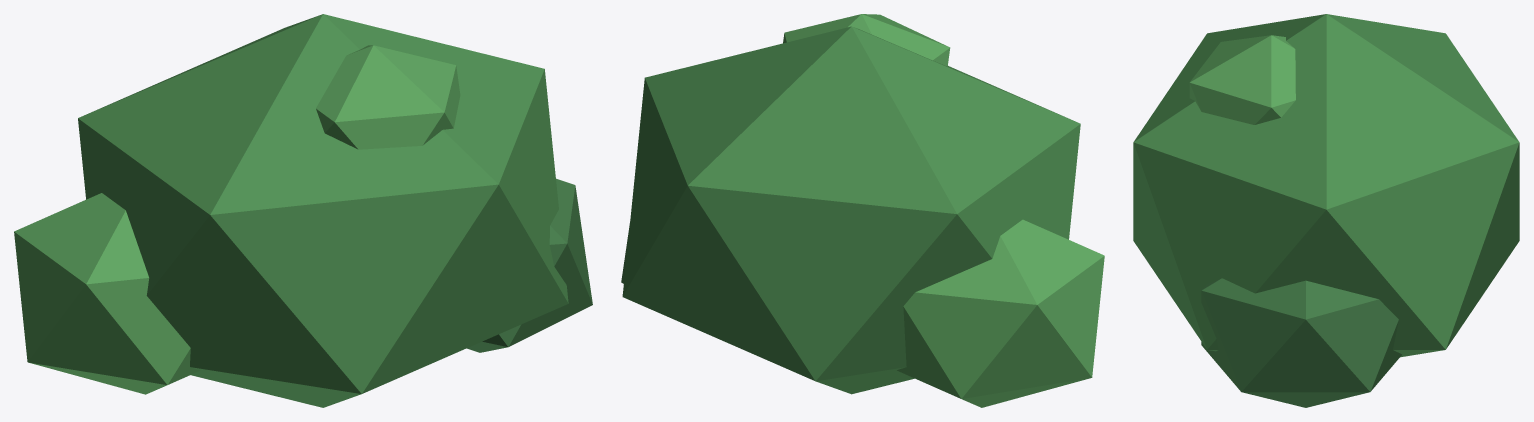
File: loc_shared_nat_shrub.glb
3 renders of one model, left to right at view 1: azimuth 30°, elevation 25°; view 2: azimuth 150°, elevation 25°; view 3: azimuth 270°, elevation 25°, orthographic. The views are drawn at different scales.
Parts seen in each view (by area): view 1: loc_shared_nat_shrub; view 2: loc_shared_nat_shrub; view 3: loc_shared_nat_shrub.
Part boxes in pixels (x1,y1,x2,y2): loc_shared_nat_shrub: (14, 14, 592, 407); loc_shared_nat_shrub: (621, 14, 1104, 407); loc_shared_nat_shrub: (1133, 14, 1519, 407).
Bounding box in the file's own units: 1 × 0.7277 × 0.7167.
